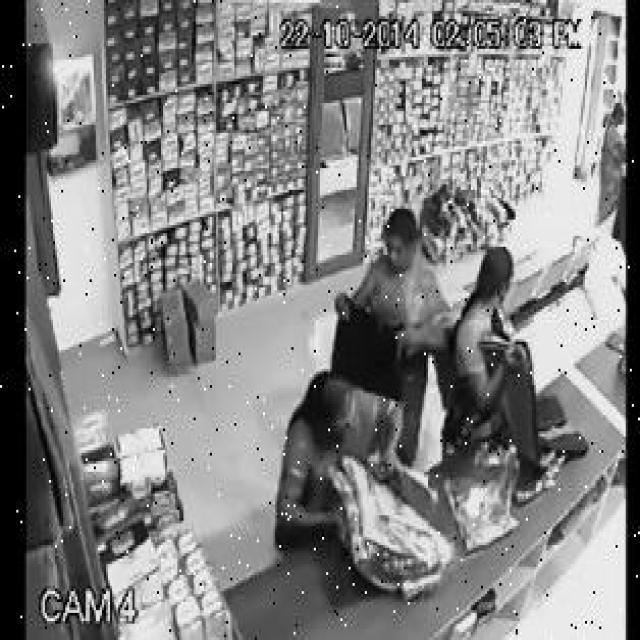Shoplifting: (274, 337, 476, 622)
